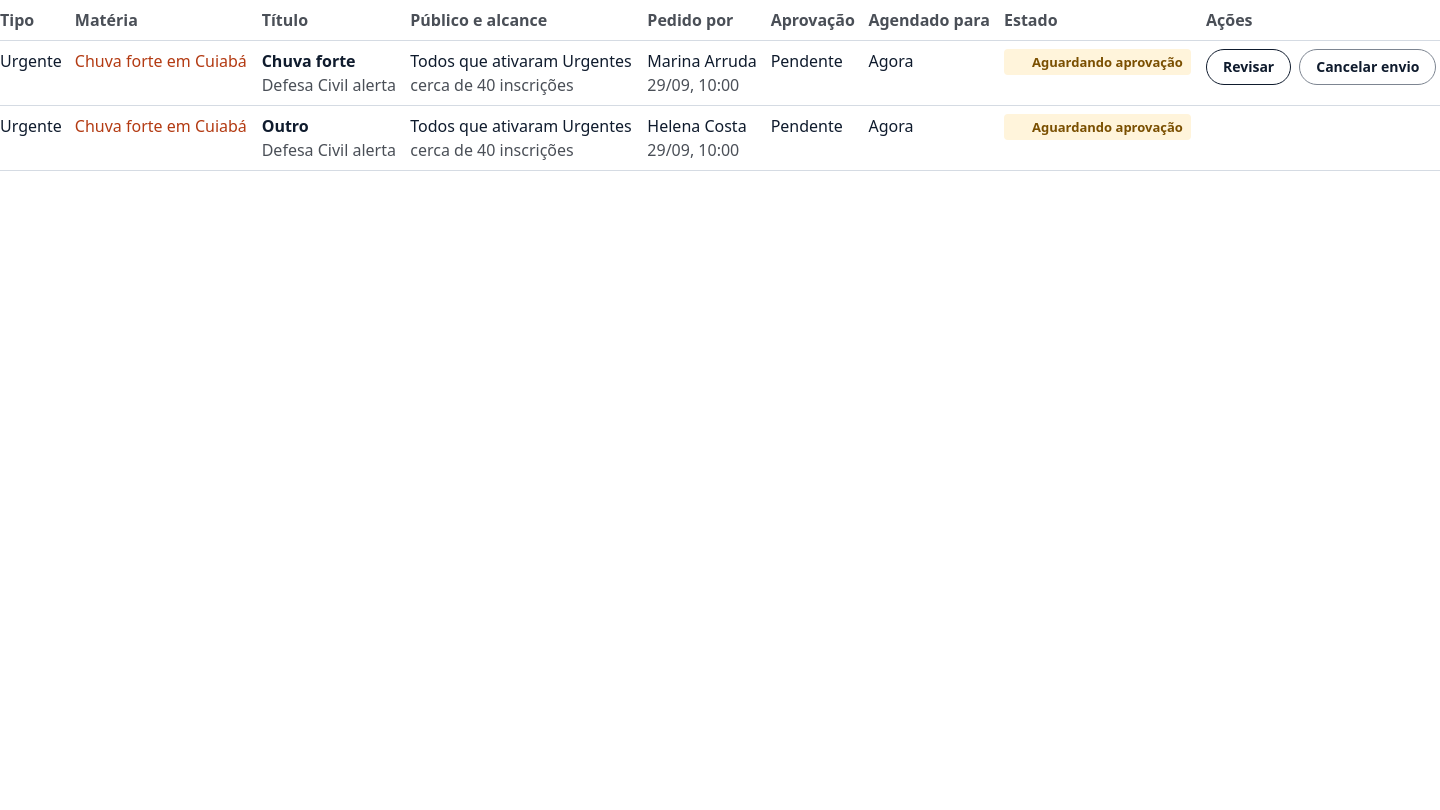
PushQueueTable (spec §10.3) › quem pediu vê o aviso e não aprova; cancelar só para quem pediu ou push.settings; erro fica no diálogo
expect the button with aria-label "Cancelar Chuva forte" is shown: met, box [1299,49,1436,85]
Click the button with aria-label "Aprovar Chuva forte": (1249, 67) [1206,49,1291,85]
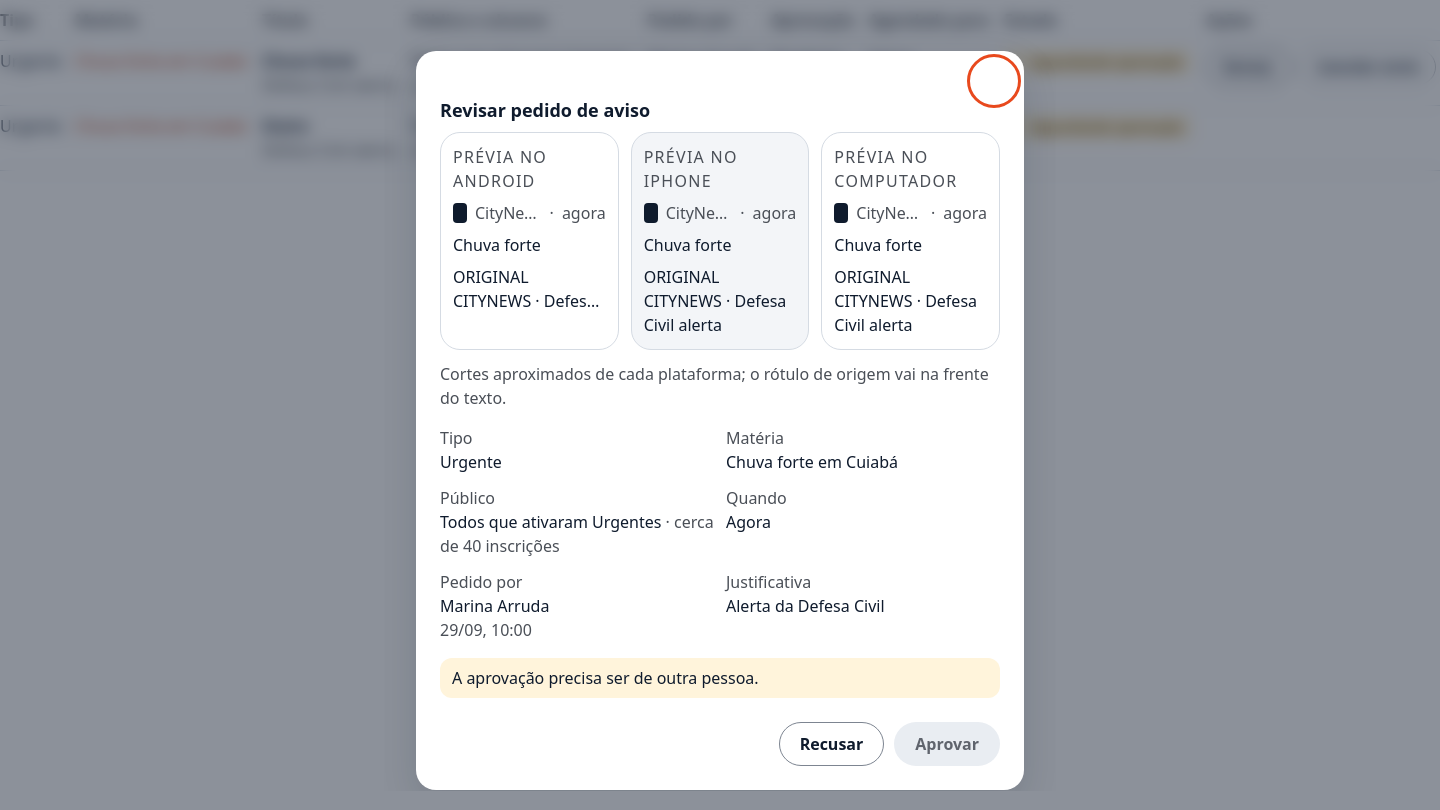
expect the text "A aprovação precisa ser de outra pessoa." is shown: met, box [440,658,1000,698]
expect the button "Aprovar" is disabled: met, box [894,722,1000,766]
